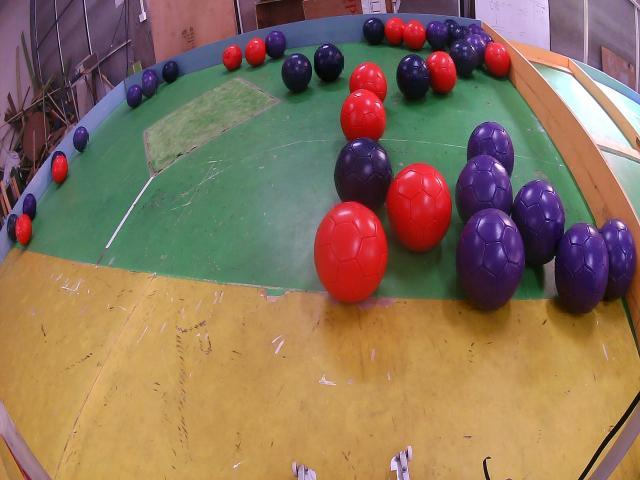jambhalya: (456, 208, 525, 310), (555, 224, 608, 313), (511, 180, 565, 265), (455, 155, 512, 223), (600, 219, 636, 299), (466, 122, 514, 174), (464, 35, 486, 65), (426, 22, 449, 49), (266, 30, 287, 58), (127, 84, 142, 108), (74, 126, 88, 151), (23, 194, 36, 220), (142, 74, 156, 97), (478, 31, 493, 45), (469, 23, 482, 35), (143, 70, 156, 75)
kaalyya: (335, 138, 393, 210), (396, 55, 430, 101), (282, 53, 312, 92), (315, 43, 343, 82), (450, 40, 477, 76), (363, 18, 385, 45), (163, 60, 179, 83), (451, 25, 470, 44), (7, 215, 18, 241), (52, 152, 66, 168), (444, 20, 458, 35)
